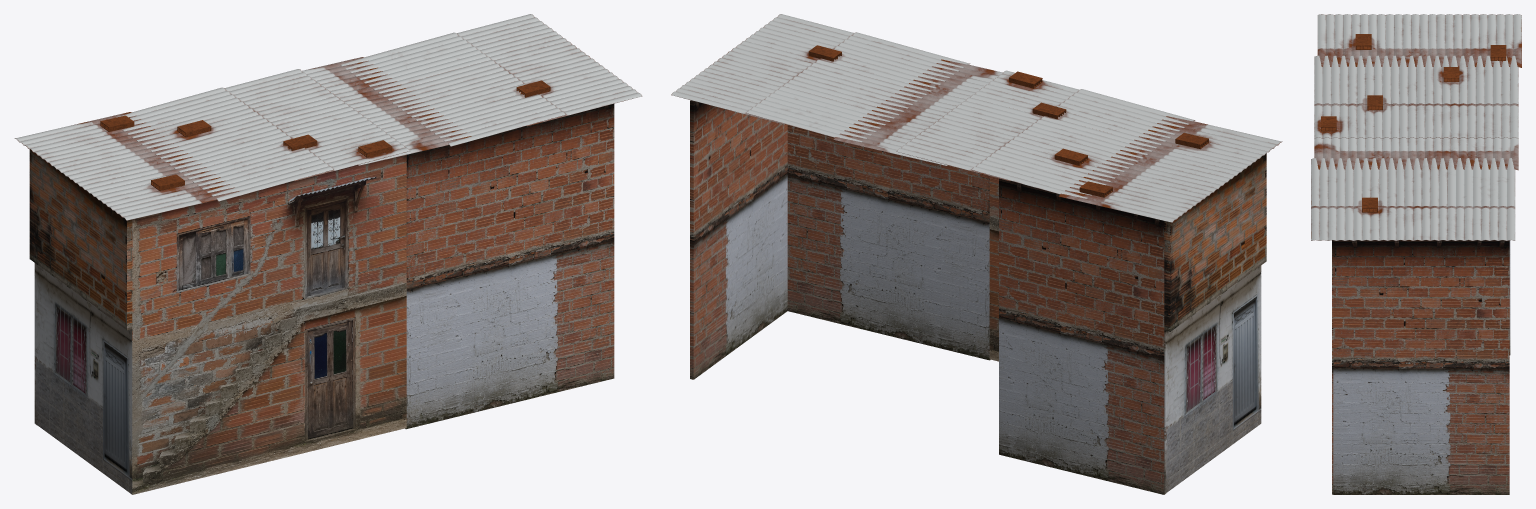
The model's file is casaA_derecha_02.fbx.
3 views of the same model, side by side, from view 1: azimuth 30°, elevation 25°; view 2: azimuth 150°, elevation 25°; view 3: azimuth 270°, elevation 25° (orthographic). The views are drawn at different scales.
Visible parts, largest first — view 1: casaA_derecha_02.001, casaA_derecha_02B.001, Techo_1.009, casaA_derecha_02C.001; view 2: Techo_1.009, casaA_derecha_02B.003, casaA_derecha_02B.001, casaA_derecha_02C.001, casaA_derecha_02B.002, casaA_derecha_02.001; view 3: Techo_1.009, casaA_derecha_02B.002, casaA_derecha_02B.001.
Boxes of the visible parts, left/top/right/bottom form: casaA_derecha_02.001: left=132, top=155, right=406, bottom=494; casaA_derecha_02B.001: left=405, top=104, right=614, bottom=429; Techo_1.009: left=14, top=14, right=642, bottom=220; casaA_derecha_02C.001: left=29, top=149, right=132, bottom=494; Techo_1.009: left=671, top=14, right=1282, bottom=222; casaA_derecha_02B.003: left=999, top=178, right=1164, bottom=494; casaA_derecha_02B.001: left=787, top=125, right=990, bottom=360; casaA_derecha_02C.001: left=1164, top=153, right=1266, bottom=493; casaA_derecha_02B.002: left=690, top=100, right=787, bottom=379; casaA_derecha_02.001: left=989, top=176, right=998, bottom=361; Techo_1.009: left=1311, top=14, right=1521, bottom=240; casaA_derecha_02B.002: left=1333, top=240, right=1509, bottom=494; casaA_derecha_02B.001: left=1332, top=240, right=1333, bottom=494.
Bounding box in the file's own units: 964 × 525 × 377.
